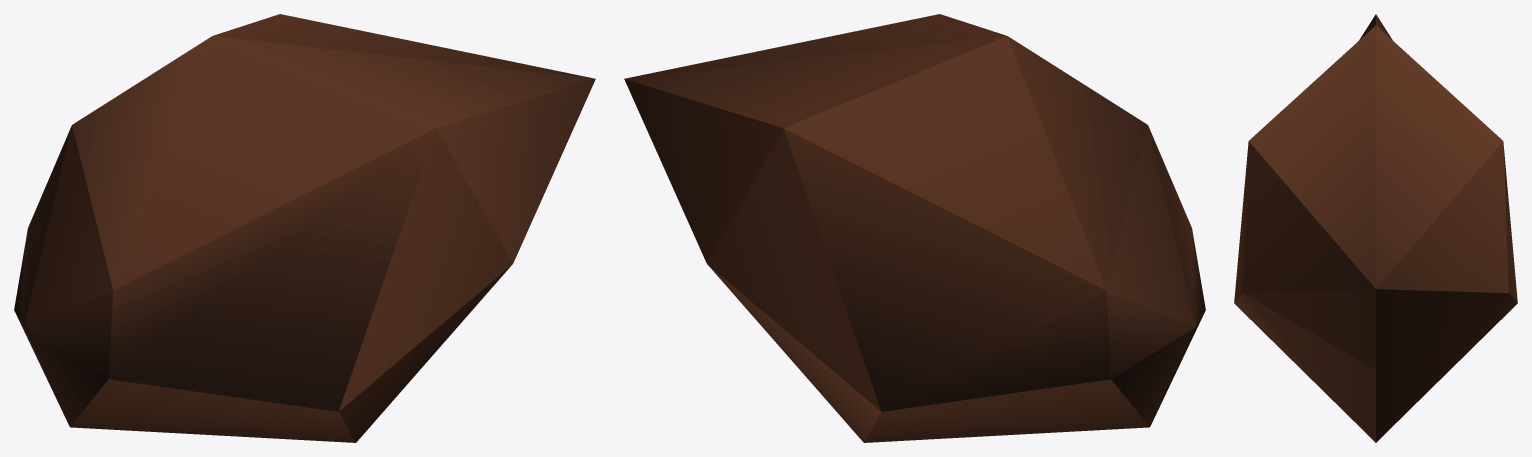
3 views of the same model, side by side, from view 1: azimuth 30°, elevation 25°; view 2: azimuth 150°, elevation 25°; view 3: azimuth 270°, elevation 25° (orthographic). The views are drawn at different scales.
Parts seen in each view (by area): view 1: OB_002; view 2: OB_002; view 3: OB_002.
Part boxes in pixels (<box>): OB_002: <box>14,14,595,442</box>; OB_002: <box>624,14,1205,442</box>; OB_002: <box>1234,14,1517,442</box>.
Bounding box in the file's own units: 84.36 × 62.32 × 44.45.
Materials: 1 (1 with a texture image).
